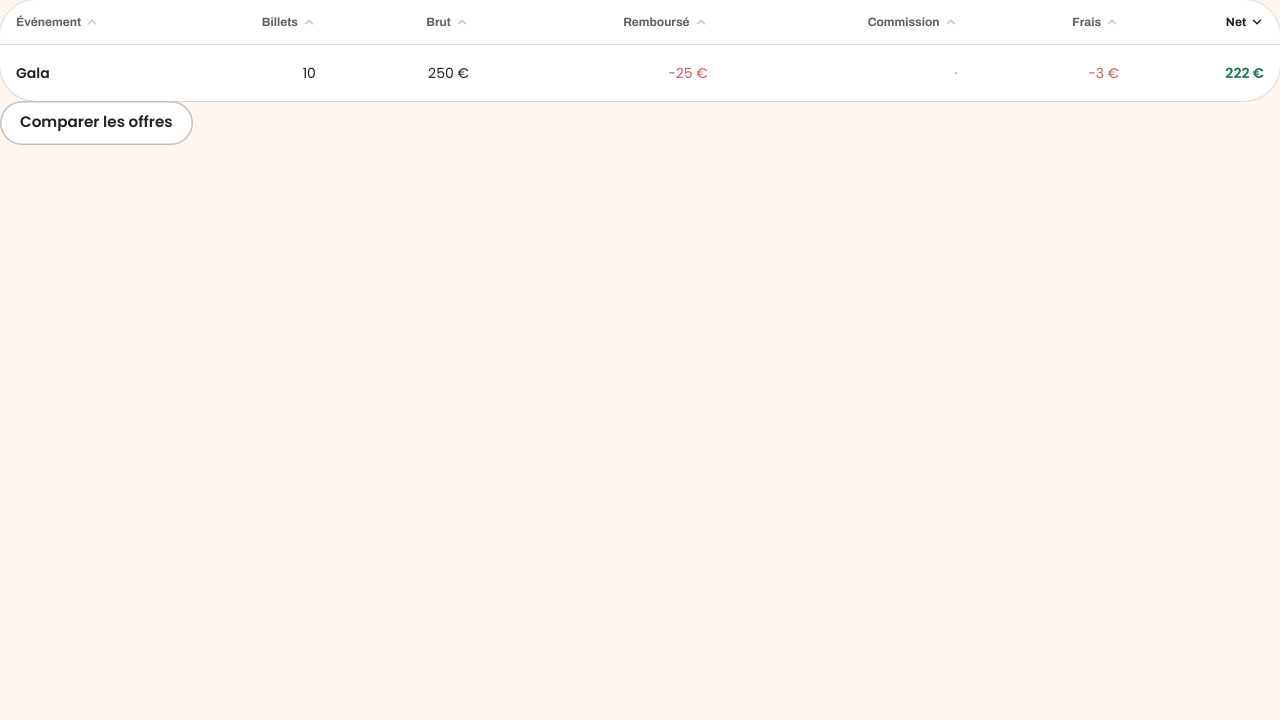
billetterie et finances › finances : déductions en rouge doux, net en vert, l'événement mène à sa vue d'ensemble ; comparer les offres dans une fenêtre
Expected: the row "Gala 10 250 € −25 € · −3 € 222 €" is shown, left=0, top=44, right=1279, bottom=100
Expected: the text "222 €" is shown, left=1225, top=63, right=1264, bottom=83
Click the button "Comparer les offres" at (96, 122), box left=0, top=100, right=193, bottom=144
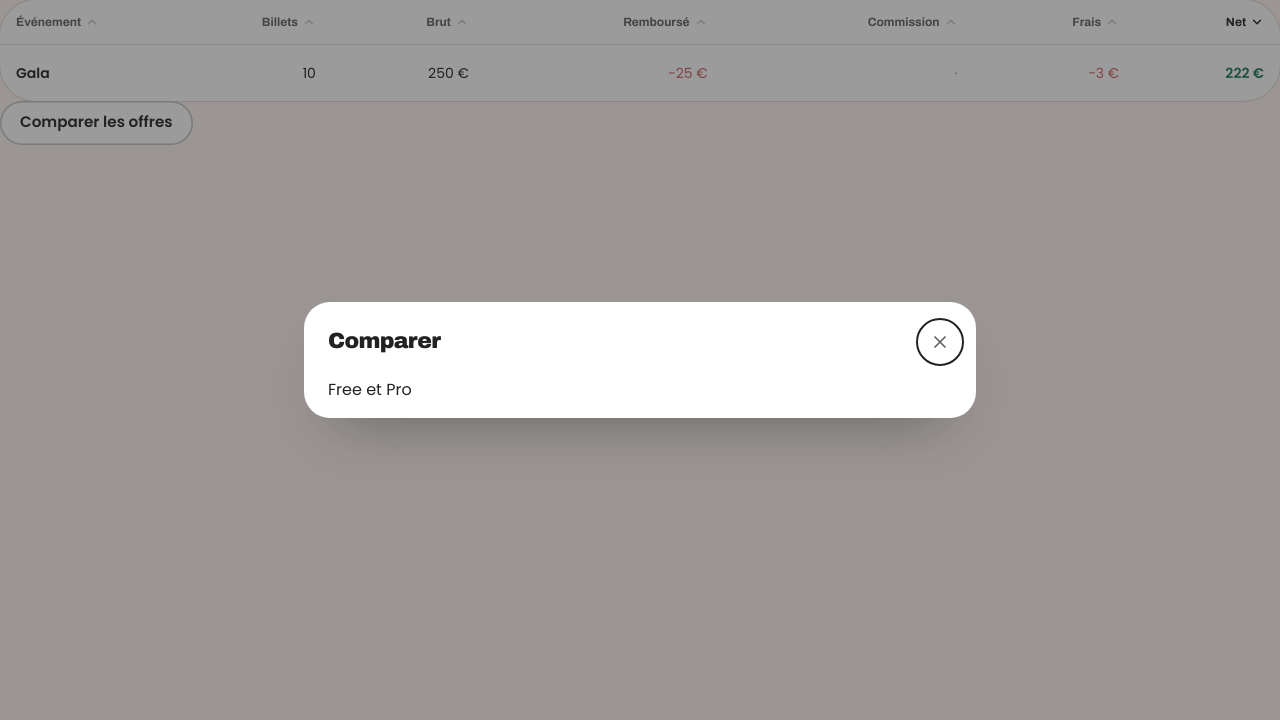
Now the text "Free et Pro" is shown, box left=328, top=378, right=412, bottom=401
